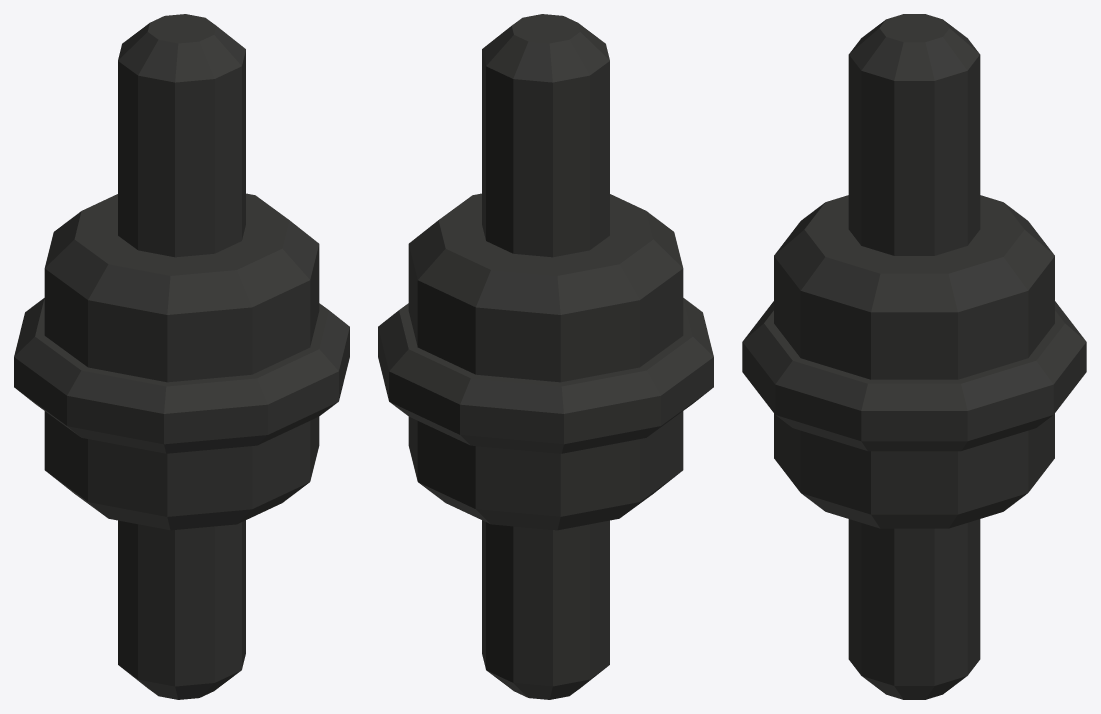
File: Peca01.fbx
3 renders of one model, left to right at view 1: azimuth 30°, elevation 25°; view 2: azimuth 150°, elevation 25°; view 3: azimuth 270°, elevation 25°, orthographic.
Visible parts, largest first — view 1: Cylinder; view 2: Cylinder; view 3: Cylinder.
Boxes of the visible parts, left/top/right/bottom form: Cylinder: left=14, top=14, right=349, bottom=699; Cylinder: left=378, top=14, right=713, bottom=699; Cylinder: left=742, top=14, right=1086, bottom=699.
Size of the model in its own units: 233 by 516 by 245.
